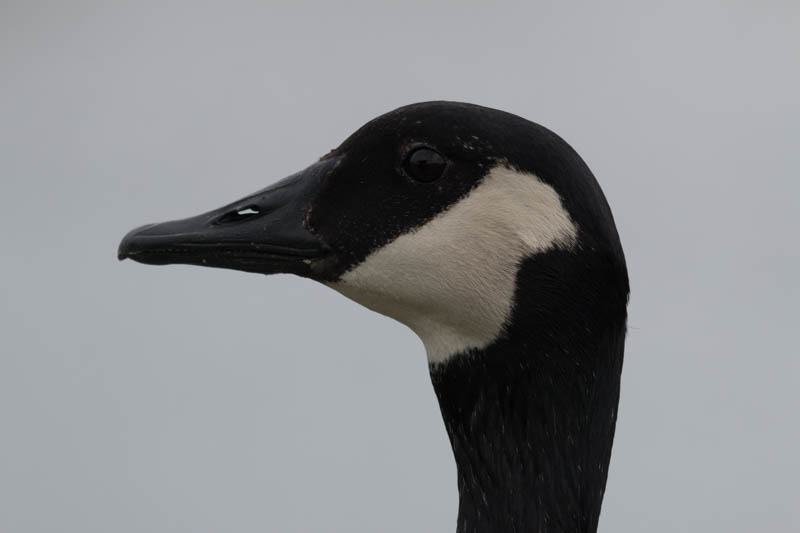goose-head: (116, 100, 631, 366)
